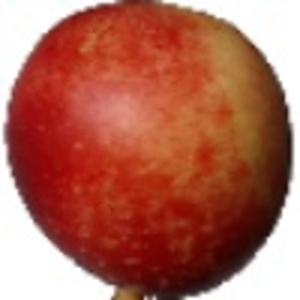nectarina: (1, 1, 295, 300)
